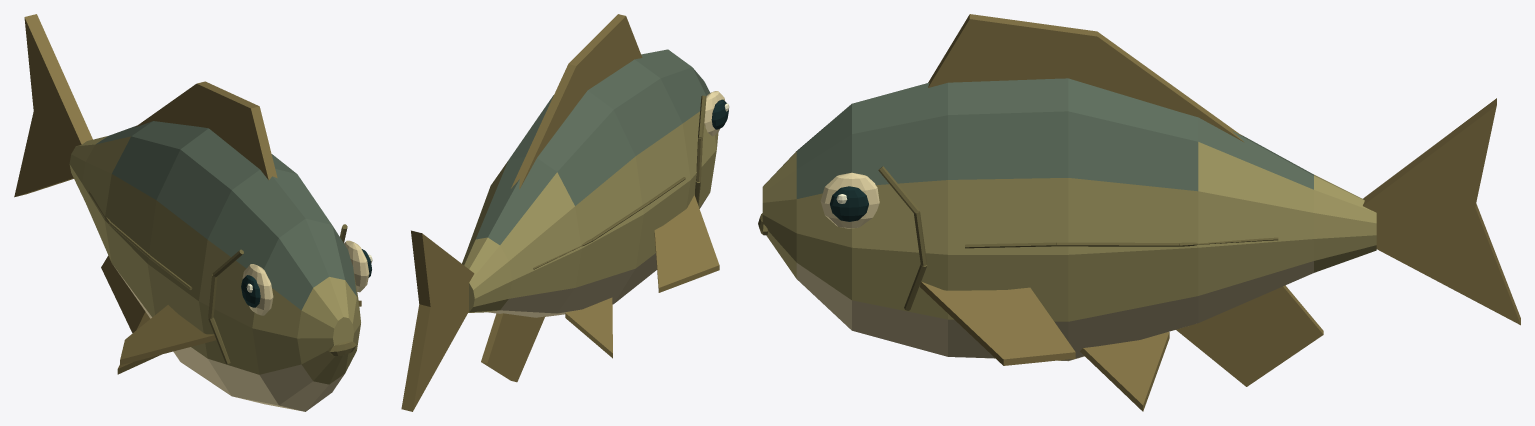
File: crucian_fish_v1.glb
The picture shows the model from 3 angles, left to right: view 1: azimuth 30°, elevation 25°; view 2: azimuth 150°, elevation 25°; view 3: azimuth 270°, elevation 25°; orthographic projection. The views are drawn at different scales.
Visible parts, largest first — view 1: crucian_fish_v1_StaticMesh; view 2: crucian_fish_v1_StaticMesh; view 3: crucian_fish_v1_StaticMesh.
Boxes of the visible parts, x1,y1,x2,y2 form: crucian_fish_v1_StaticMesh: [14, 14, 372, 411]; crucian_fish_v1_StaticMesh: [401, 14, 729, 411]; crucian_fish_v1_StaticMesh: [758, 14, 1520, 411].
Size of the model in its own units: 0.136 by 0.169 by 0.317.
